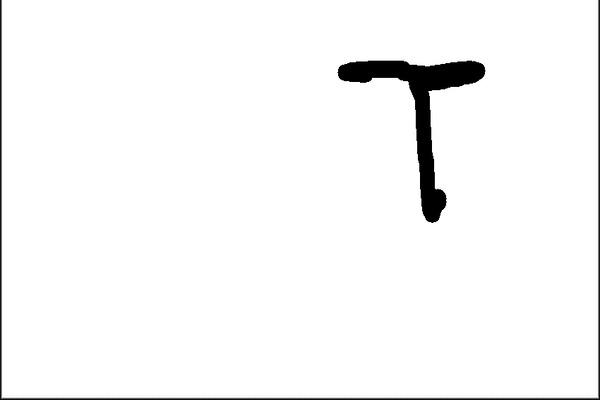T: (334, 49, 480, 229)
